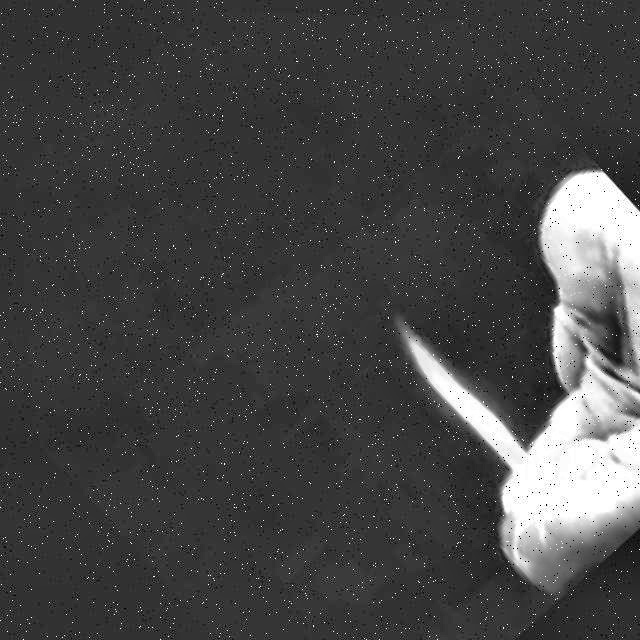Fire: (362, 299, 565, 512)
